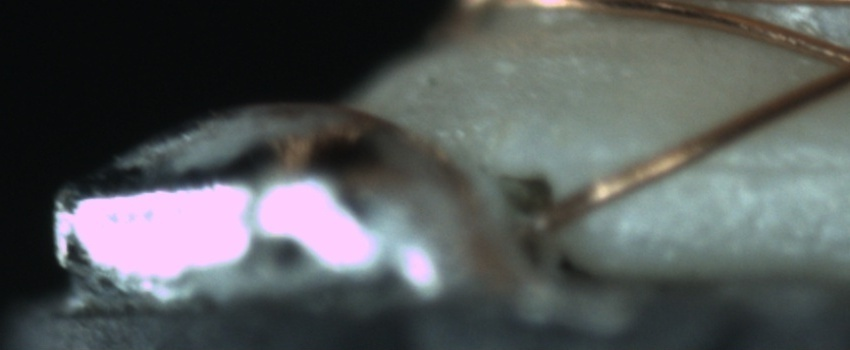DL: (678, 133, 848, 200)
